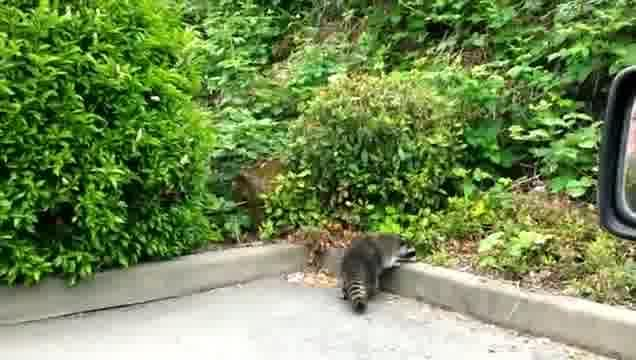raccoon: (339, 230, 421, 311)
